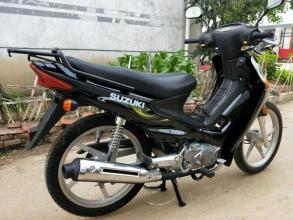motor: (28, 32, 280, 216)
